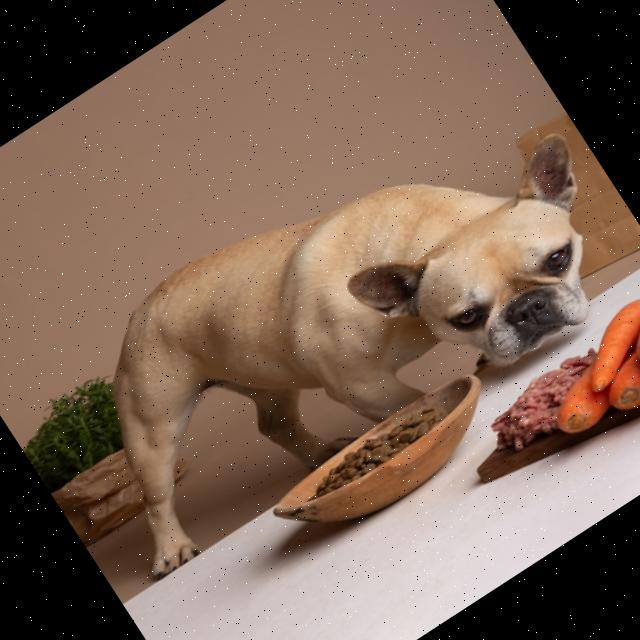Dog: (16, 53, 640, 595)
